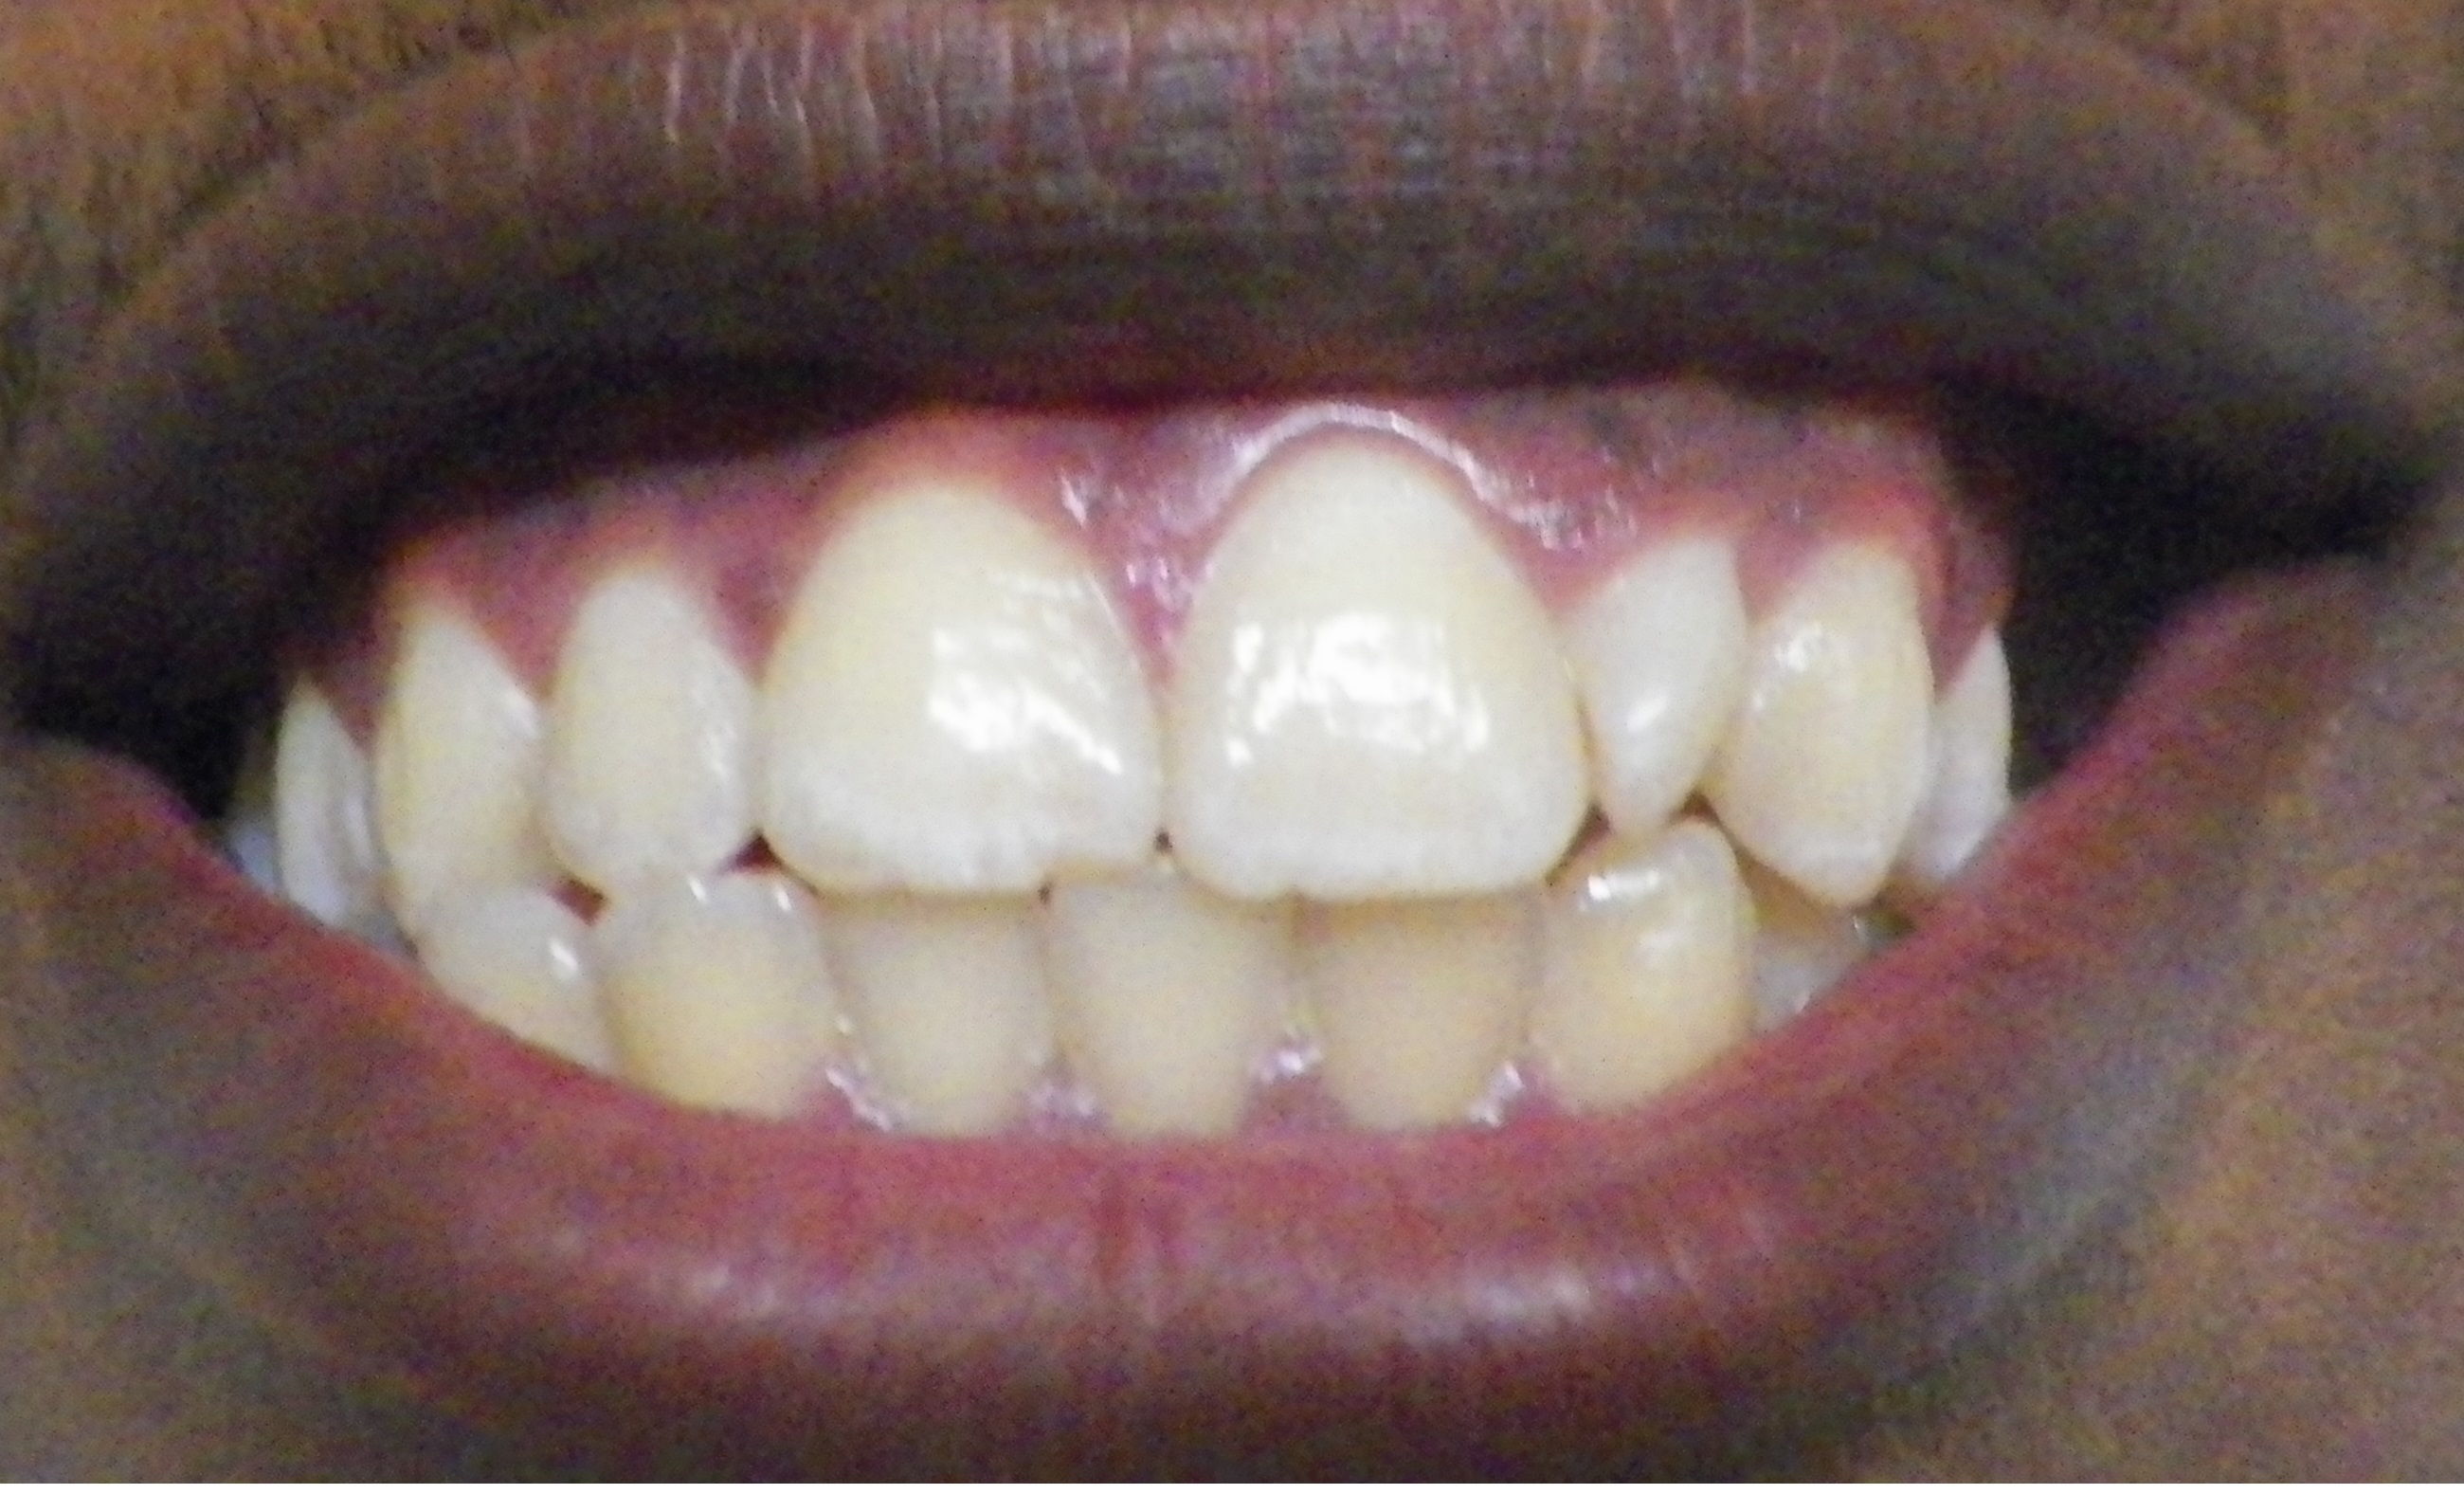boca: (187, 447, 2028, 1131)
